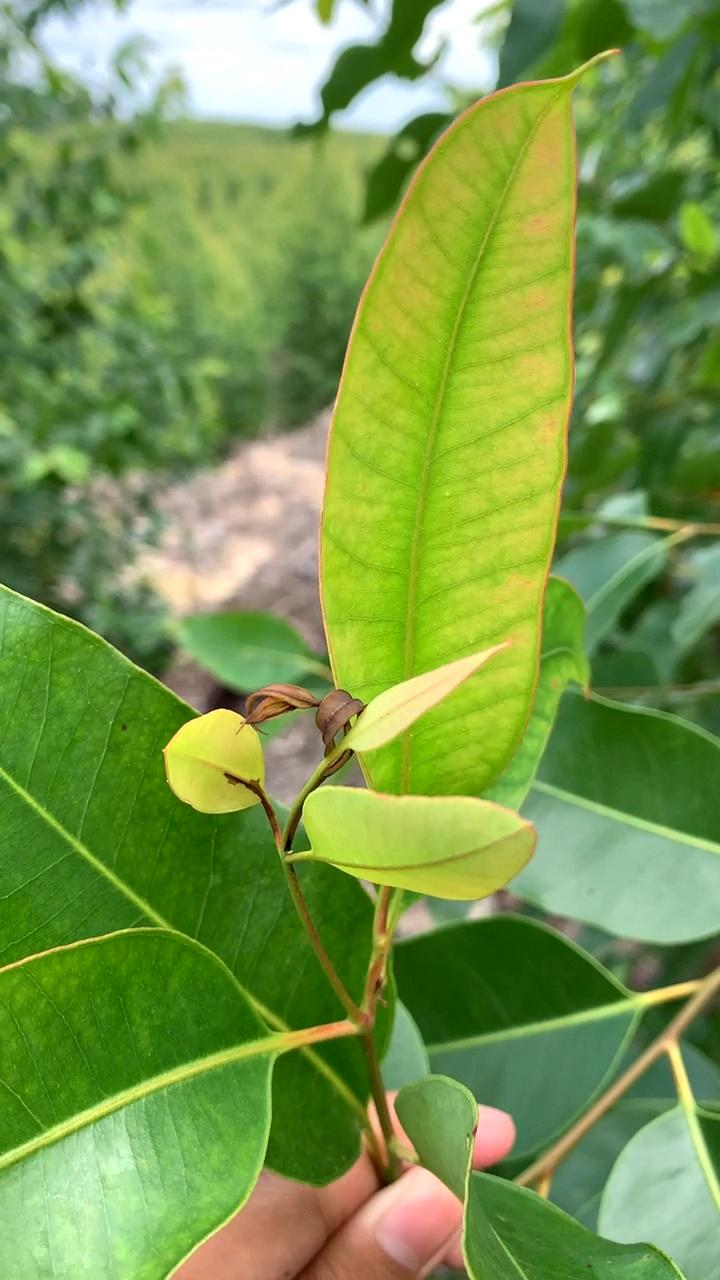Helopeltis-Withered Sprout: (230, 676, 373, 763)
